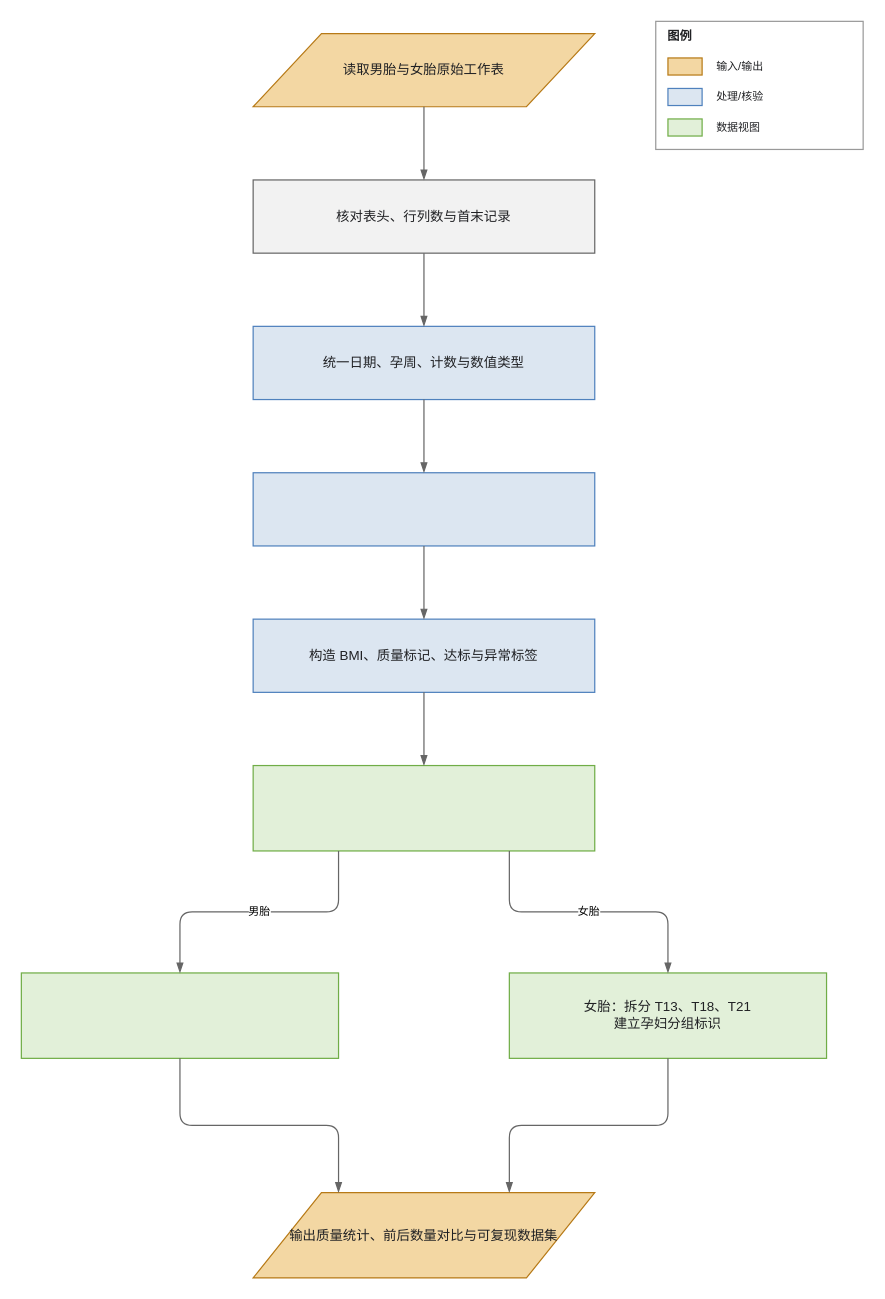
This 885x1299 diagram has some shape labels left out. The shapes that lost their labels are listed below. From the top down, each one's centre as x and y in pixels, then its label:
At (423,509): "区分结构性缺失、异常记录与技术重复".
At (423,807): "形成记录级标准长表 保留全部 1687 条检测记录".
At (179,1015): "男胎：聚合采样事件 构造达标删失区间".
